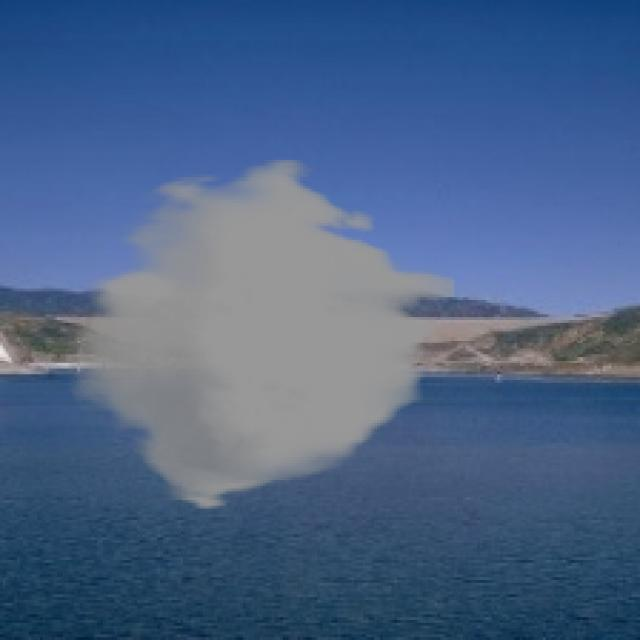smoke: (69, 157, 454, 512)
